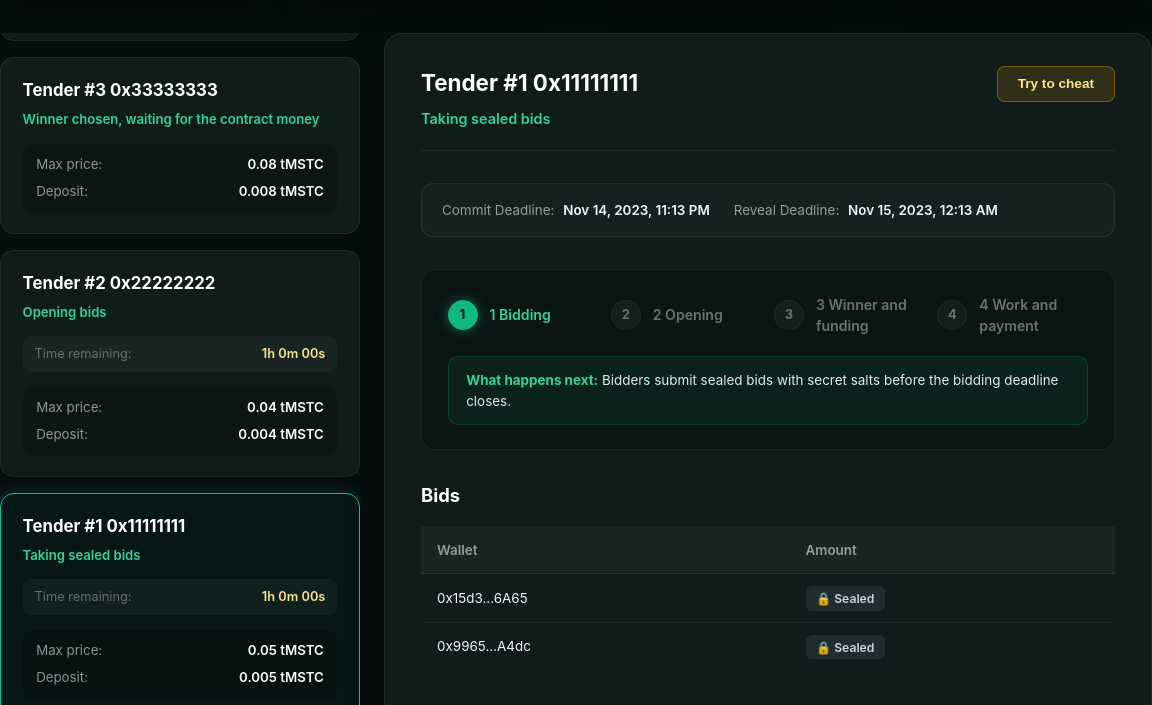
PublicAuditTab Component Tests › Cheat Test B: Duplicate Bid Protection Verification › Case F: marks unknown contract revert as inconclusive rather than false security success
(page scrolled)
Click the button "Try to cheat": {"x": 1056, "y": 84} 997,66 -> 1115,102
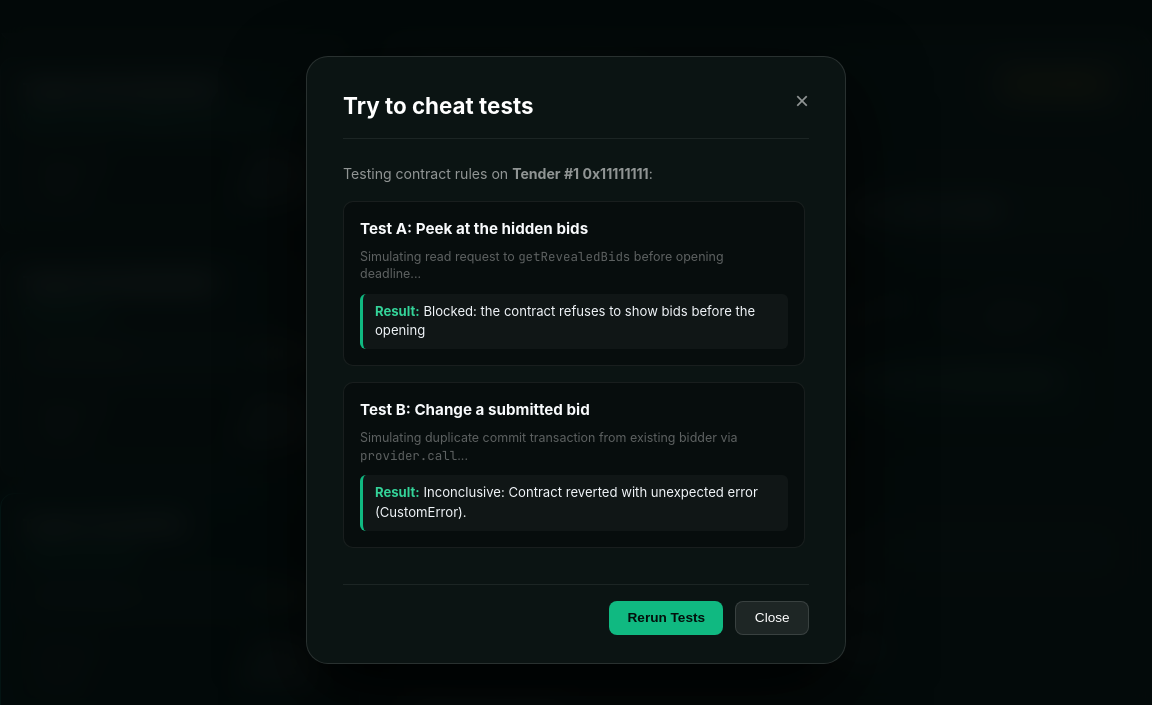
Check: the text "Inconclusive: Contract reverted with unexpected error" is shown, box 375,484 -> 758,520
